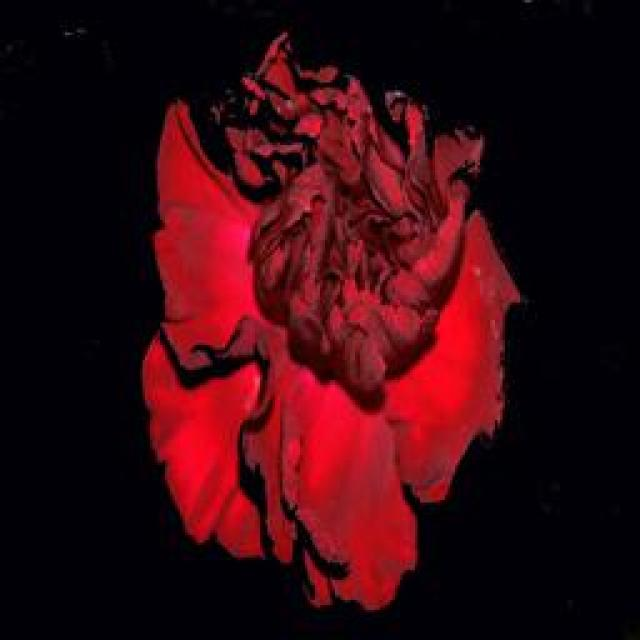carnation: (125, 40, 550, 635)
